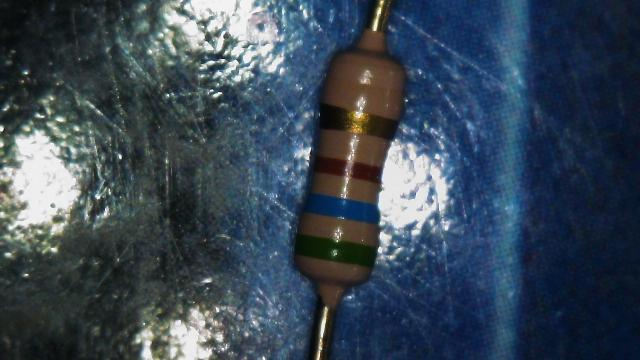blue: (301, 194, 379, 221)
brown: (312, 158, 381, 178)
gold: (317, 104, 398, 136)
green: (292, 236, 378, 266)
resistor: (275, 22, 433, 337)
